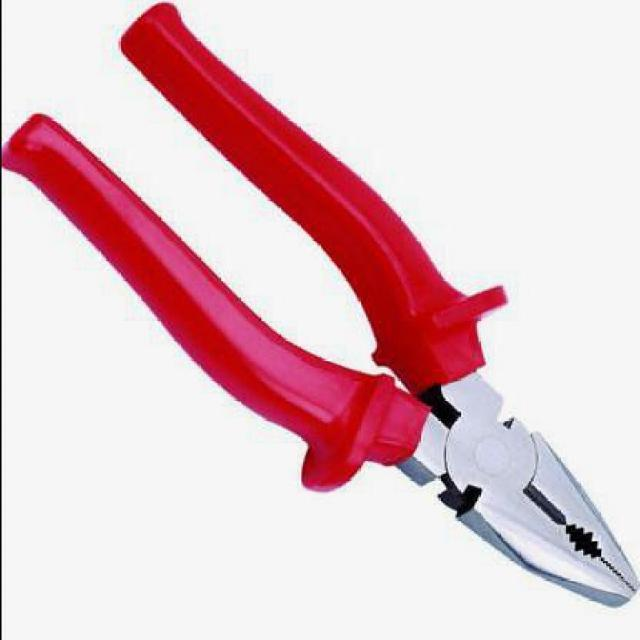pliers: (0, 1, 638, 607)
